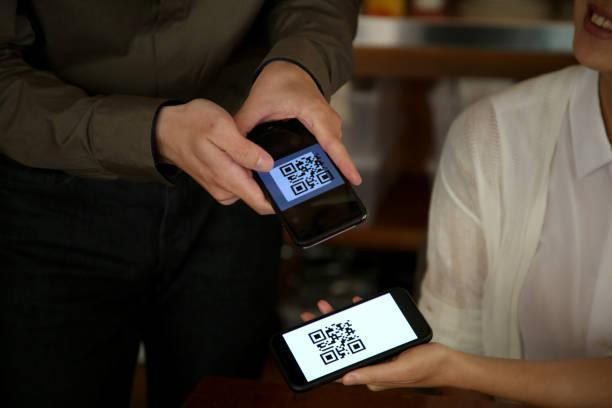qr_code: (307, 318, 366, 365), (279, 151, 335, 196)
